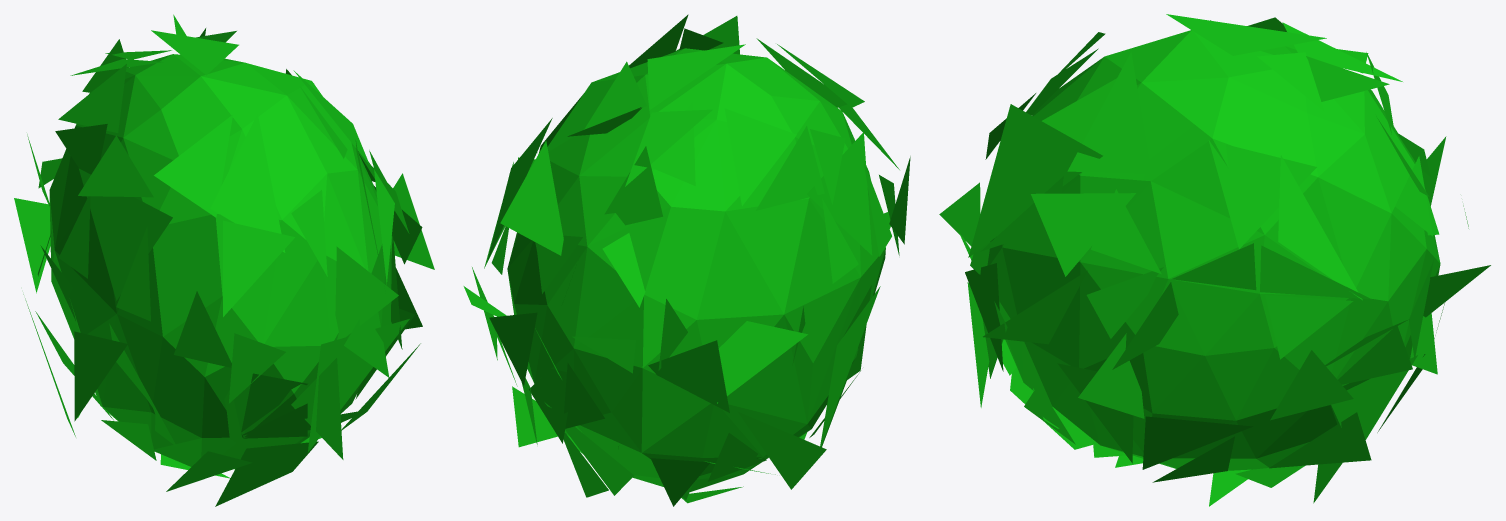
Rendered from bush_002.fbx.
3 renders of one model, left to right at view 1: azimuth 30°, elevation 25°; view 2: azimuth 150°, elevation 25°; view 3: azimuth 270°, elevation 25°, orthographic. The views are drawn at different scales.
Parts seen in each view (by area): view 1: bush.002; view 2: bush.002; view 3: bush.002.
Boxes of the visible parts, box(x1,y1,x2,y2) form: bush.002: box(14, 14, 434, 506); bush.002: box(463, 14, 910, 506); bush.002: box(939, 14, 1490, 506).
Bounding box in the file's own units: 186 × 239 × 255.
